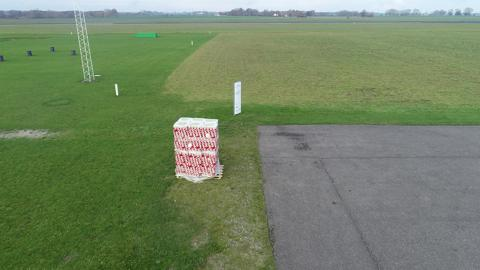RockwoolPallet: (172, 116, 222, 180)
